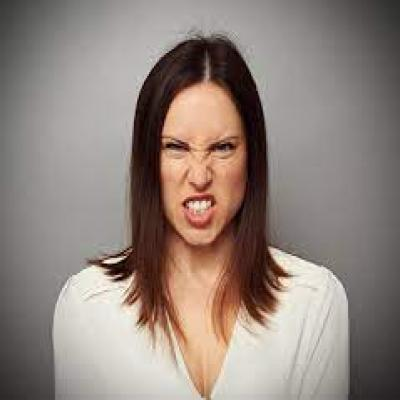angry: (144, 56, 253, 244)
